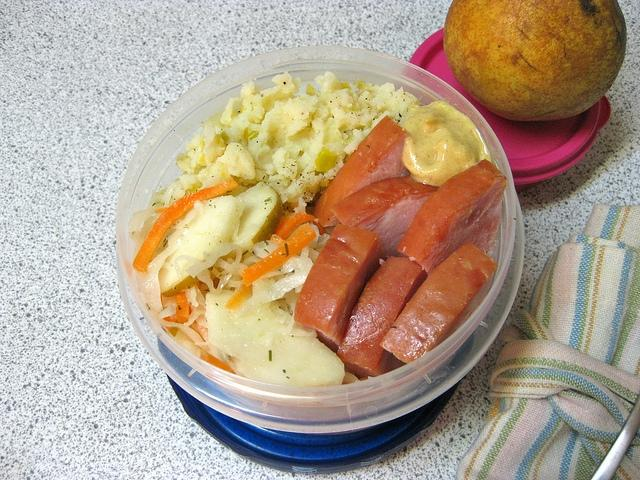carrot: (132, 179, 239, 273), (242, 222, 316, 286), (274, 212, 326, 240), (200, 348, 236, 375), (174, 292, 190, 324), (161, 292, 179, 310), (270, 234, 286, 245)
potato: (444, 2, 626, 121), (205, 288, 344, 388), (158, 196, 245, 294), (248, 93, 318, 175), (222, 182, 283, 262)
